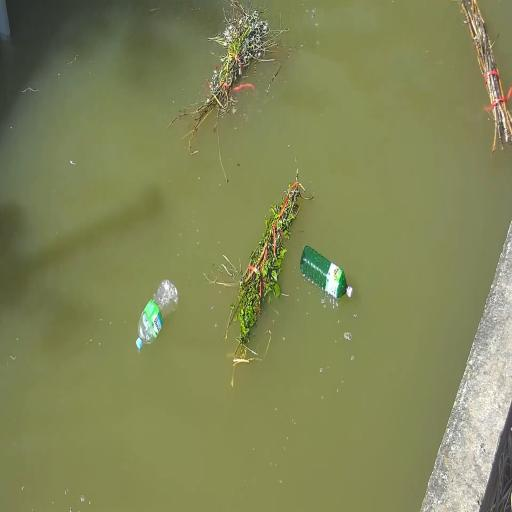plastic: (297, 236, 355, 315), (125, 269, 178, 351)
twig: (224, 187, 302, 357), (192, 0, 274, 138), (462, 2, 512, 171)
